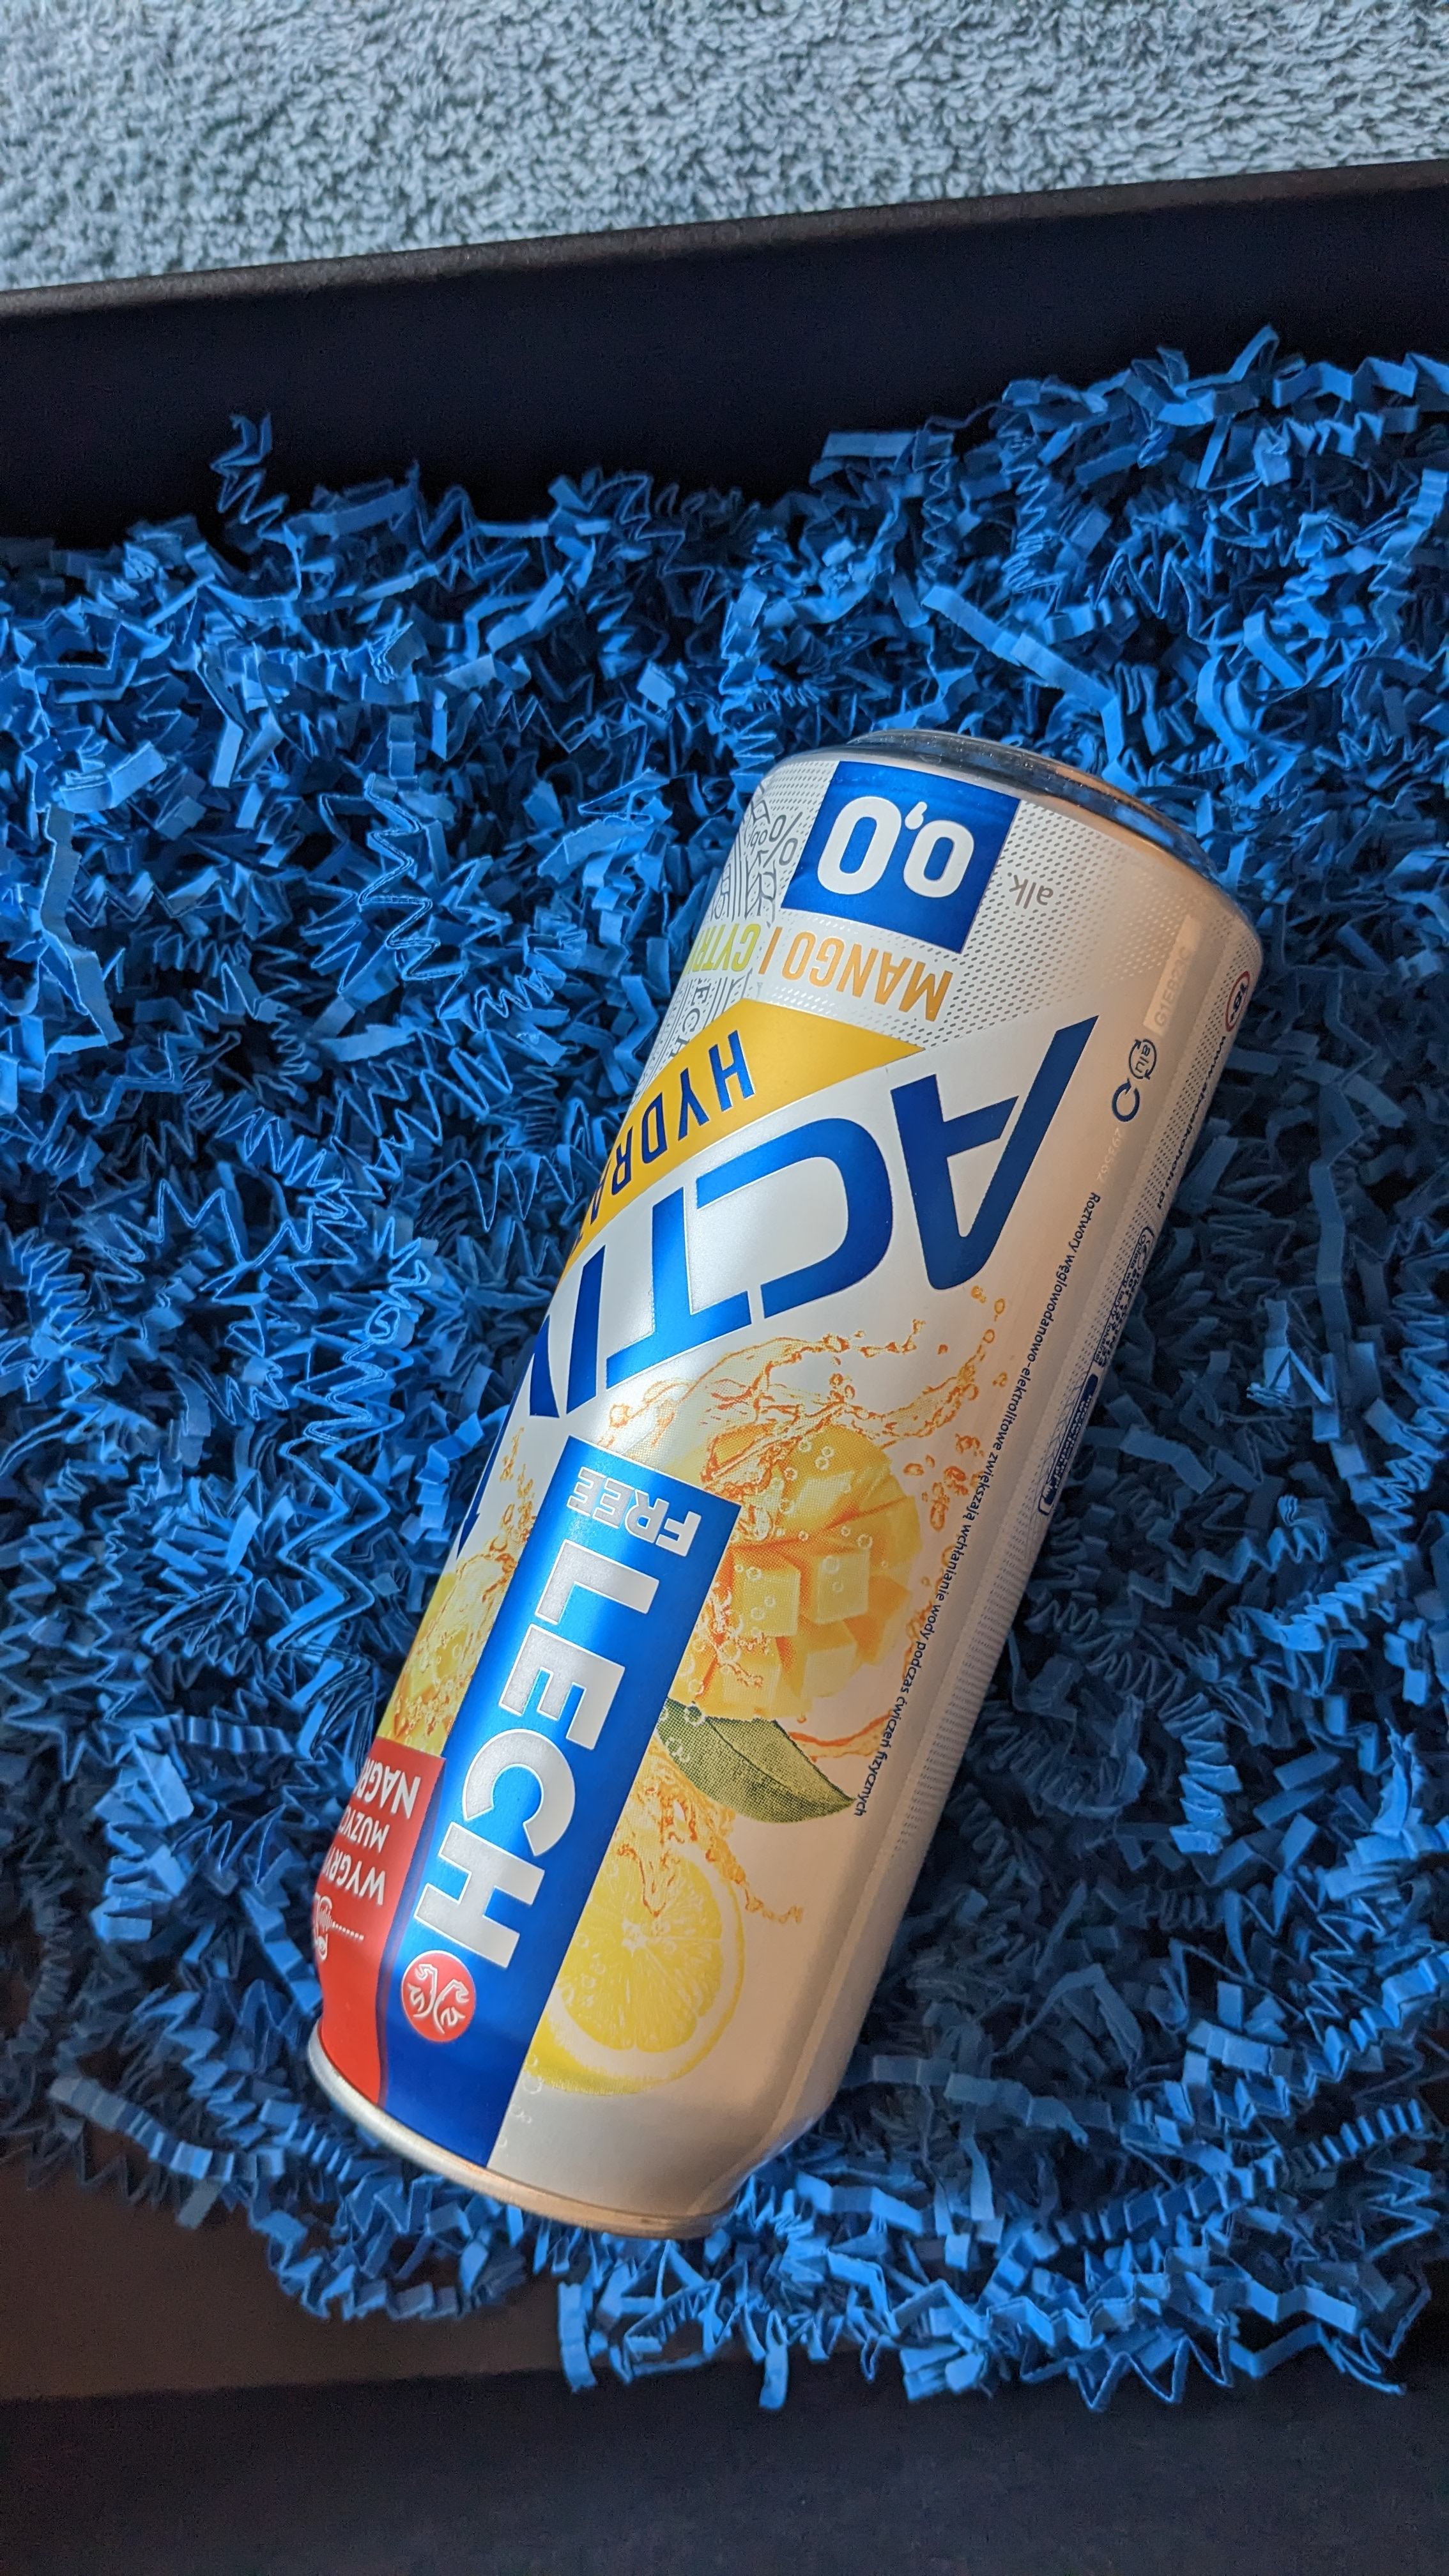lech-active: (246, 715, 1265, 2249)
